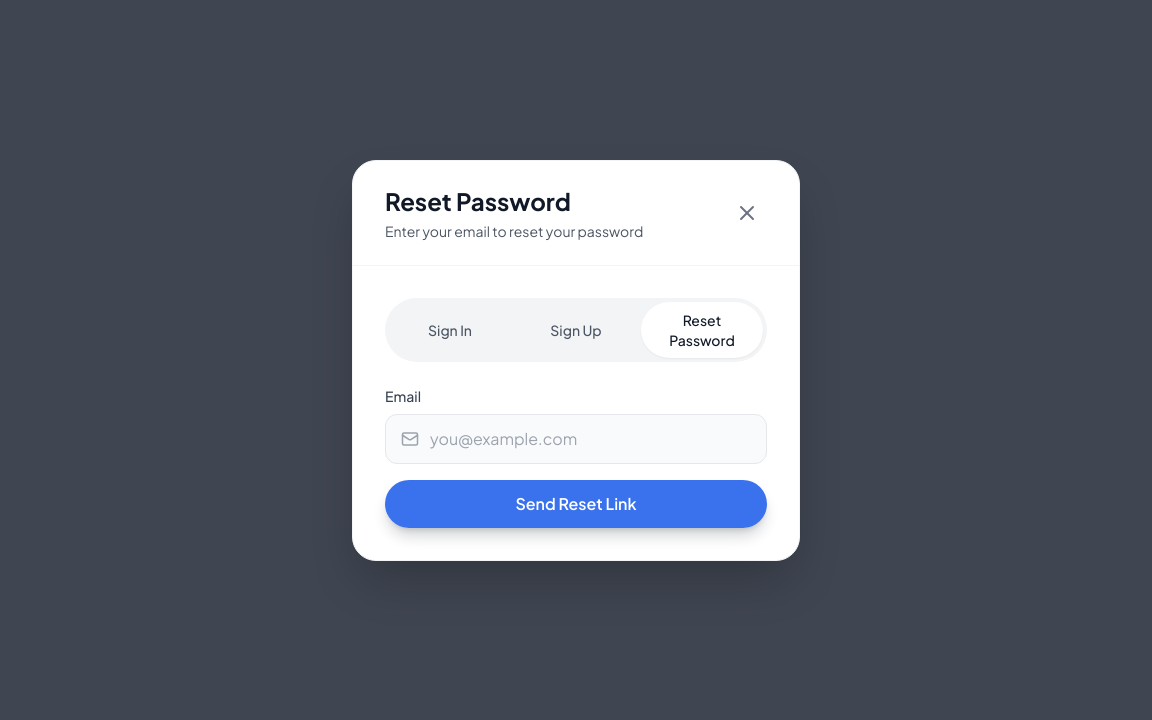
AuthModal › Reset Password form › should show success message on successful reset
This screenshot has width=1152, height=720.
Type "test@example.com" into the field with placeholder "you@example.com" at (576, 438), box [385,414,767,464]
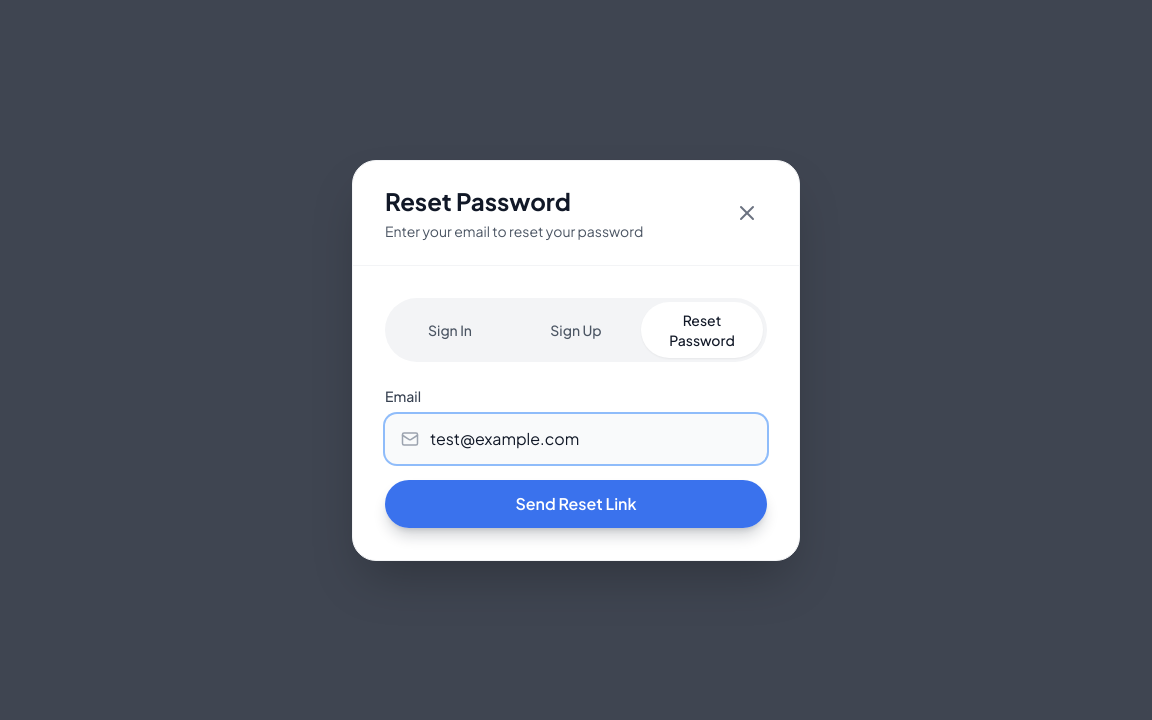
Click the button "Send Reset Link" at (576, 504), box [385,480,767,528]
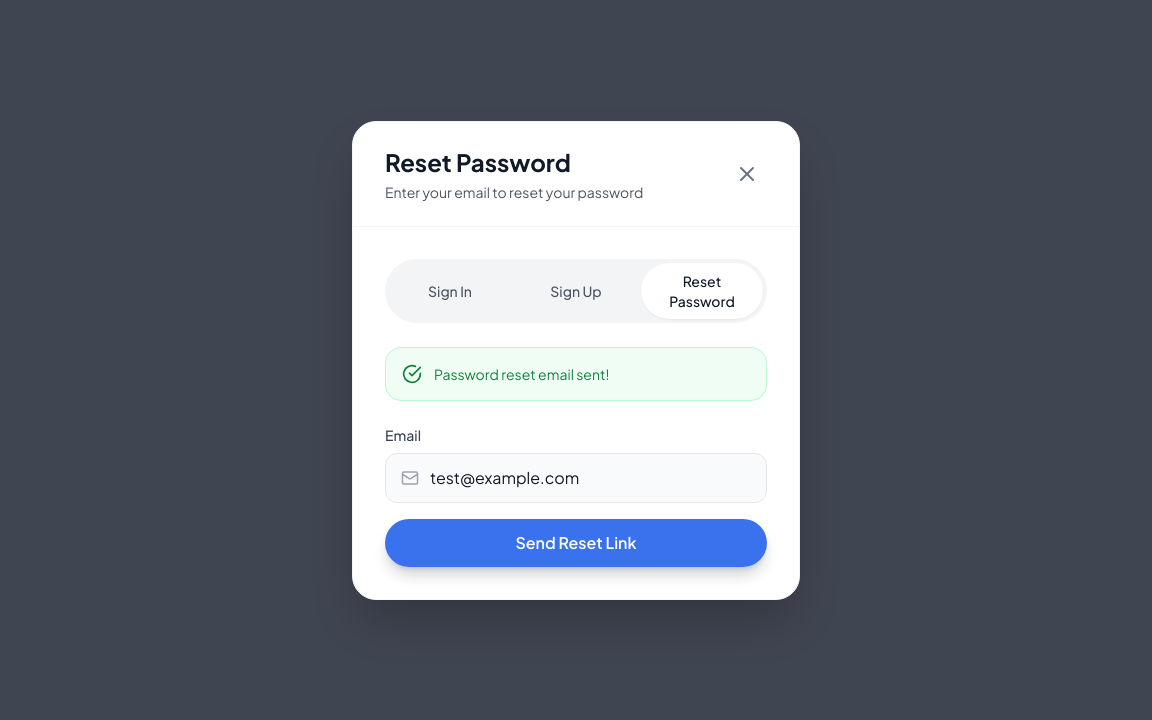
Now the text "Password reset email sent!" is shown, box [434,364,609,384]
